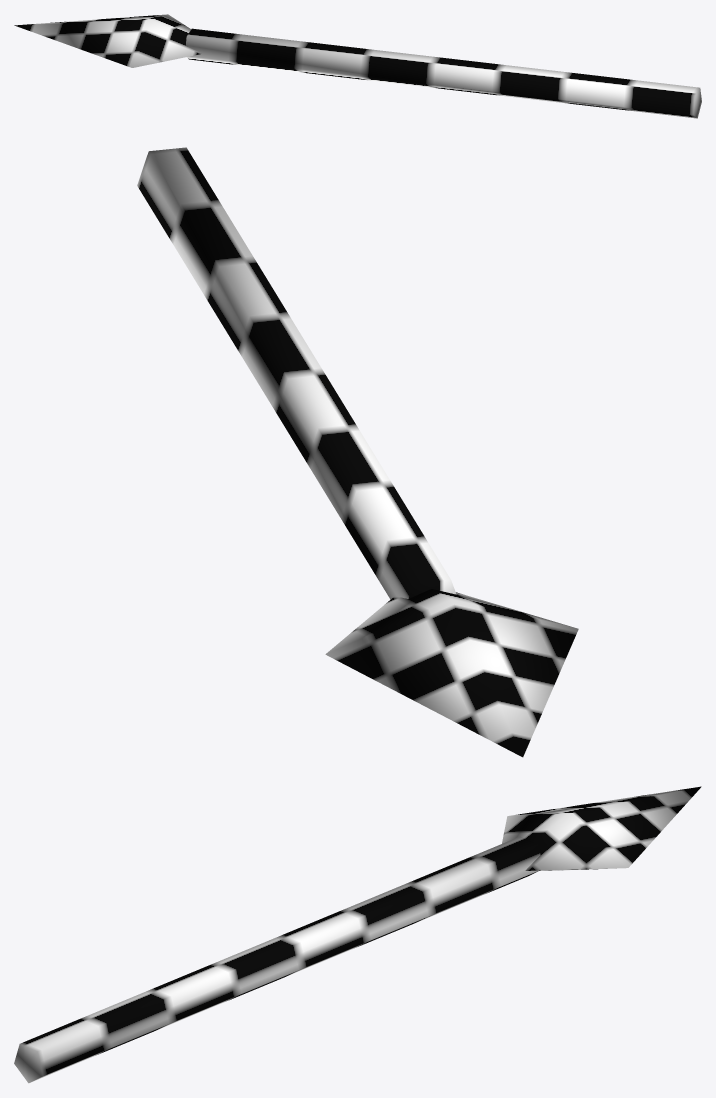
Rendered from initlitr7.dae.
3 views of the same model, one above another, from view 1: azimuth 30°, elevation 25°; view 2: azimuth 150°, elevation 25°; view 3: azimuth 270°, elevation 25° (orthographic). The views are drawn at different scales.
Parts seen in each view (by area): view 1: item; view 2: item; view 3: item.
Boxes of the visible parts, bbox=[...] form: item: bbox=[14, 14, 701, 118]; item: bbox=[137, 147, 578, 757]; item: bbox=[14, 786, 701, 1083].
Bounding box in the file's own units: 1.86 × 1.89 × 0.1708.
1 material, 1 textured.
